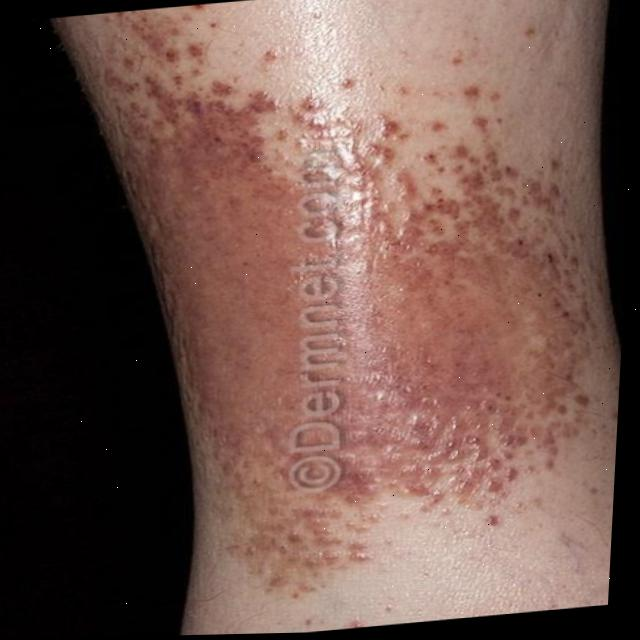Eczema: (149, 36, 579, 568)
